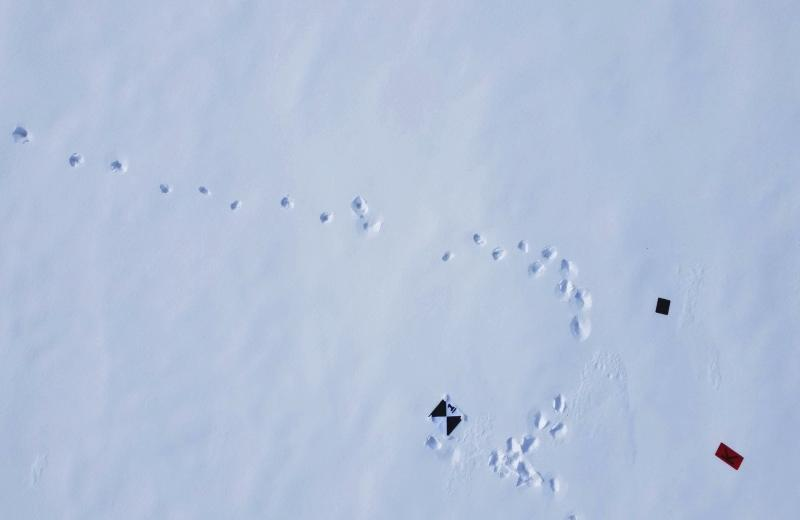Rectangle: (712, 440, 746, 474)
Square: (652, 296, 674, 319)
